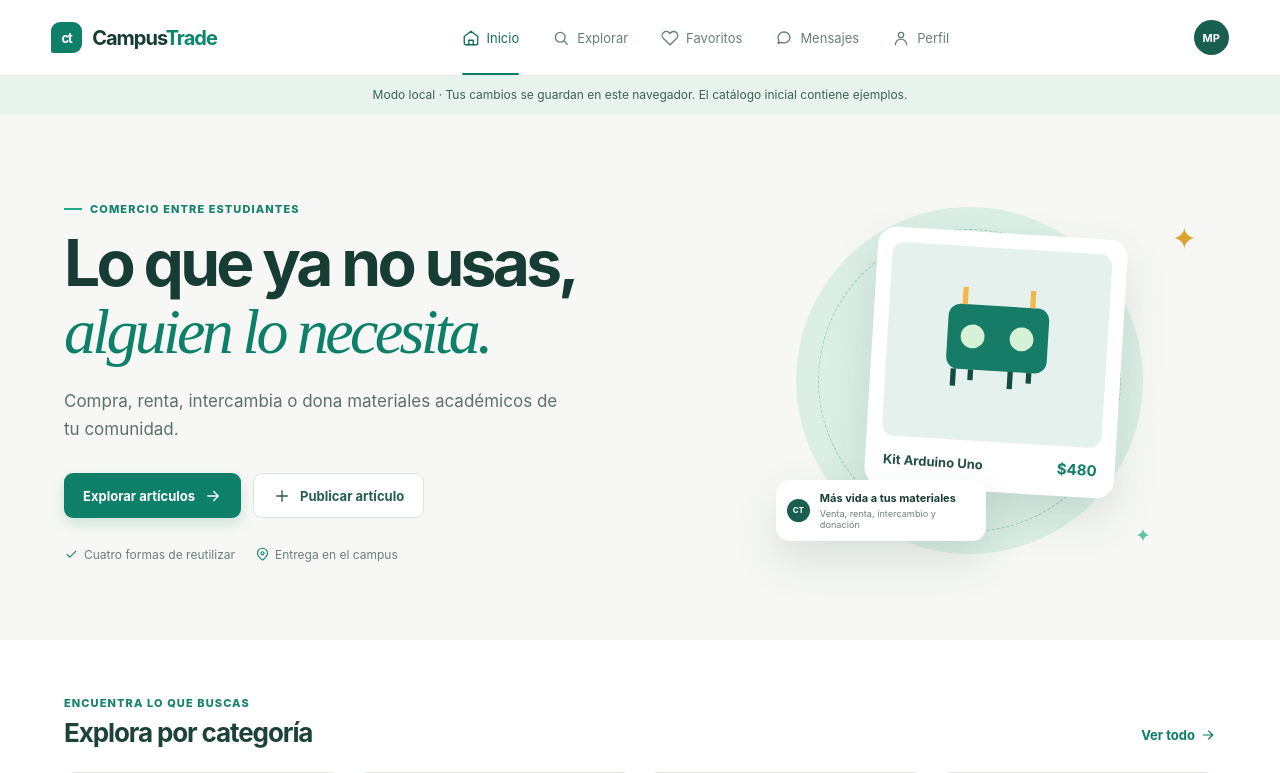
Test case: permite cerrar un modal con Escape y restaura el foco
Click the button "Publicar artículo" at (339, 496), box [253, 473, 424, 518]
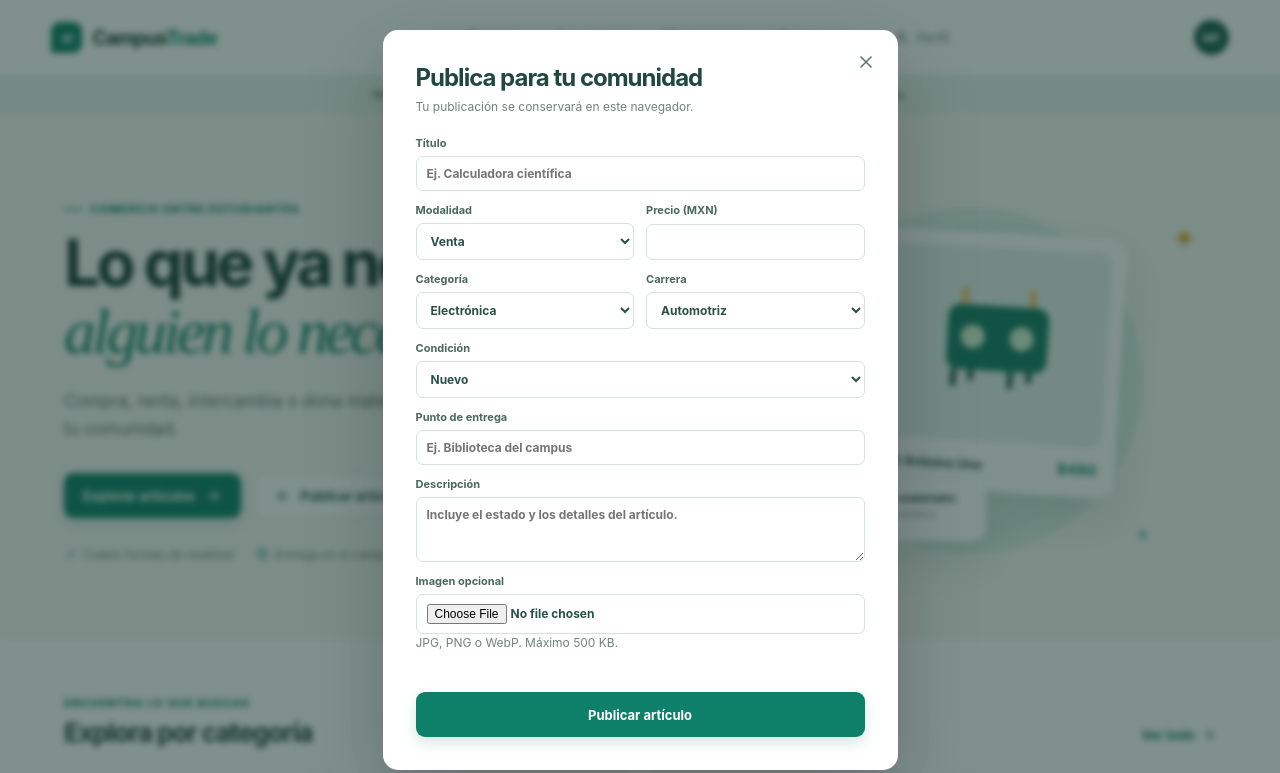
Press Escape
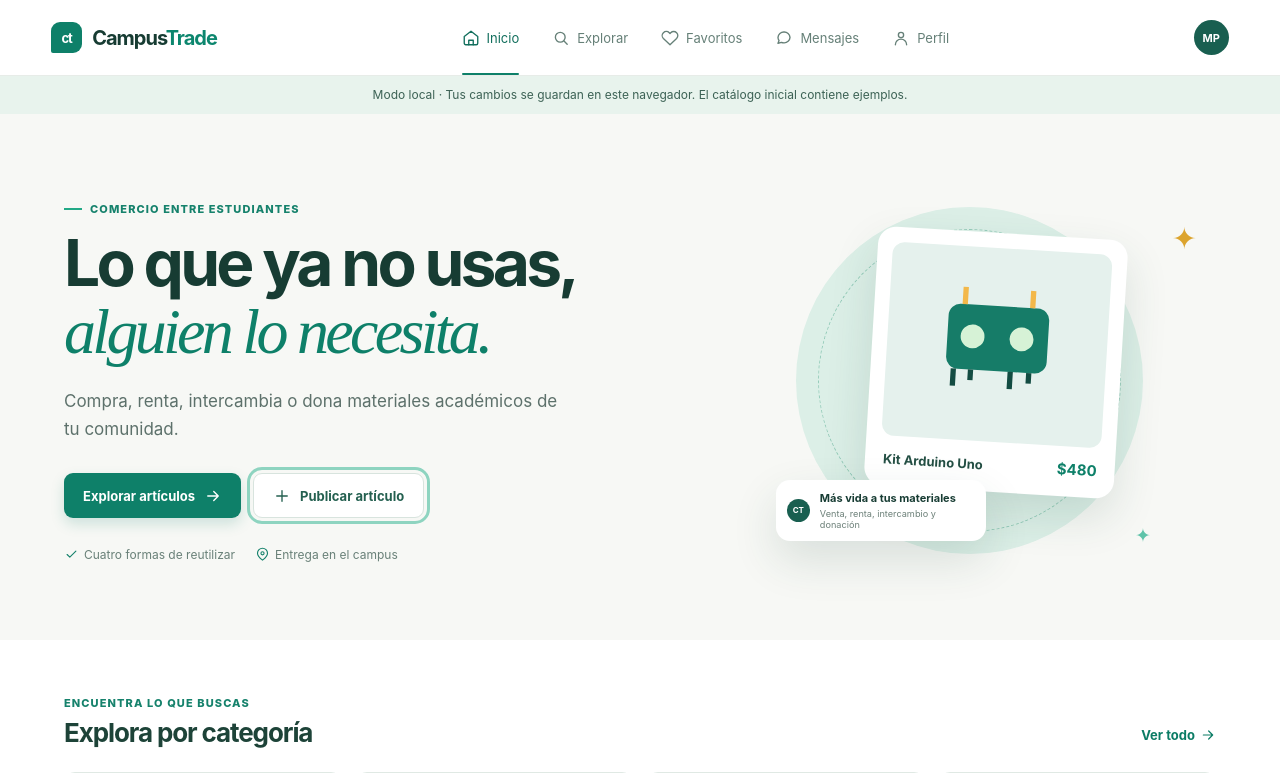
Result: the dialog is gone
